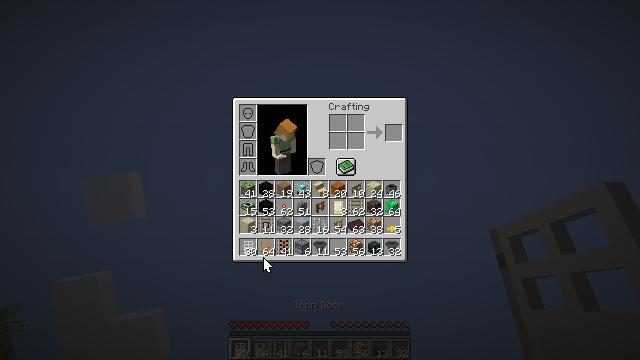cursor: (263, 257, 273, 273)
